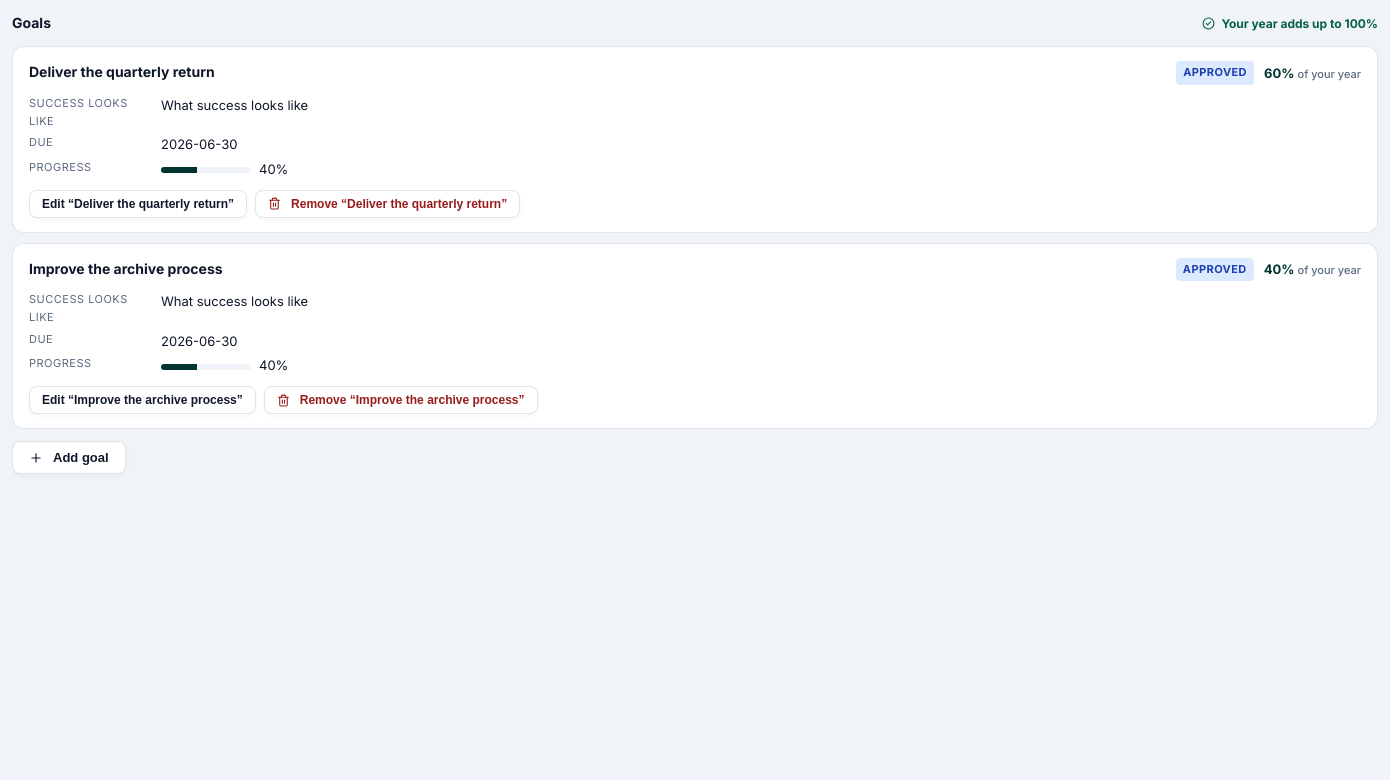
the fields the specification names › offers goal, share of year, success and due date when adding
What coordinates should you click on to do the following:
click the button "Add goal"
I would click on:
 (69, 458)
Its box is [12,441,126,474].
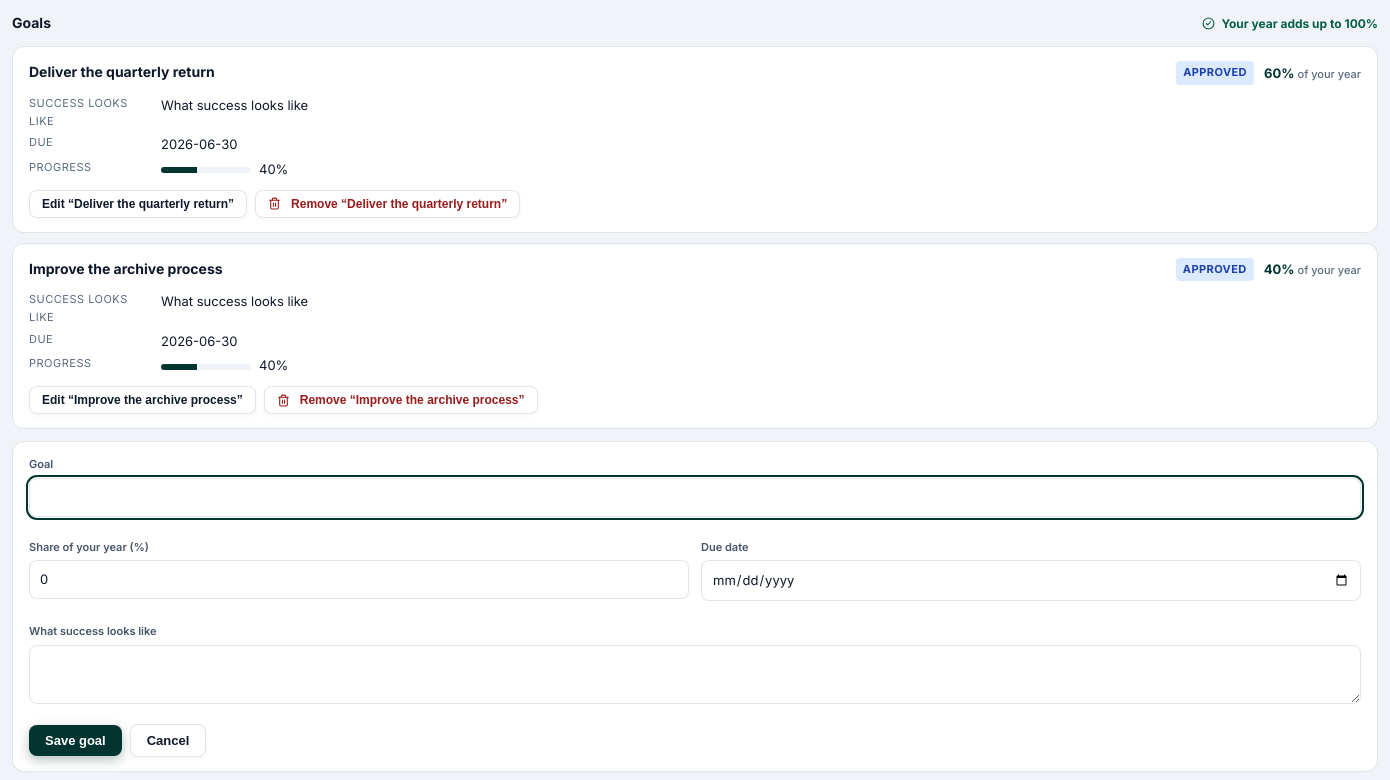
Now the field labelled "Goal" is shown, box [29,478,1361,516]
Now the number field labelled "Share of your year (%)" is shown, box [29,560,689,599]
Now the date field labelled "Due date" is shown, box [701,560,1361,601]
